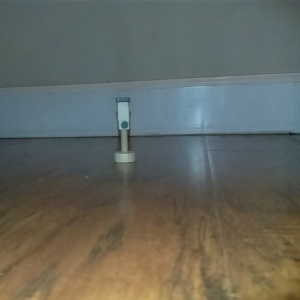traffic light green: (112, 95, 136, 163)
